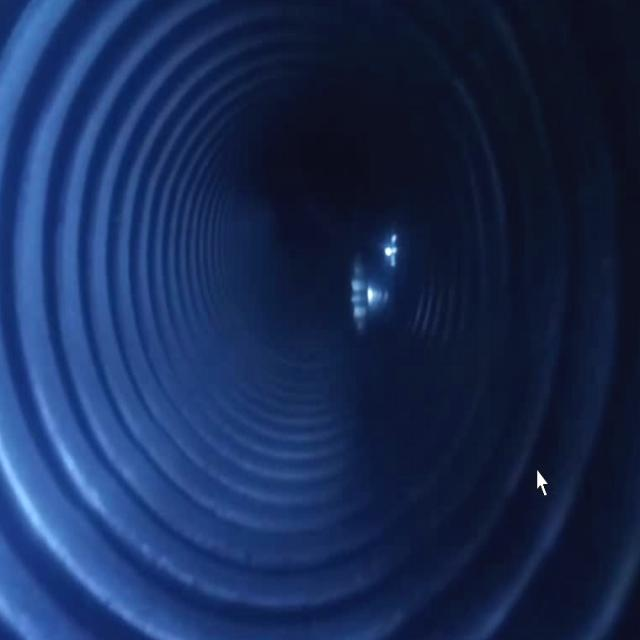metal piece: (348, 214, 412, 344)
